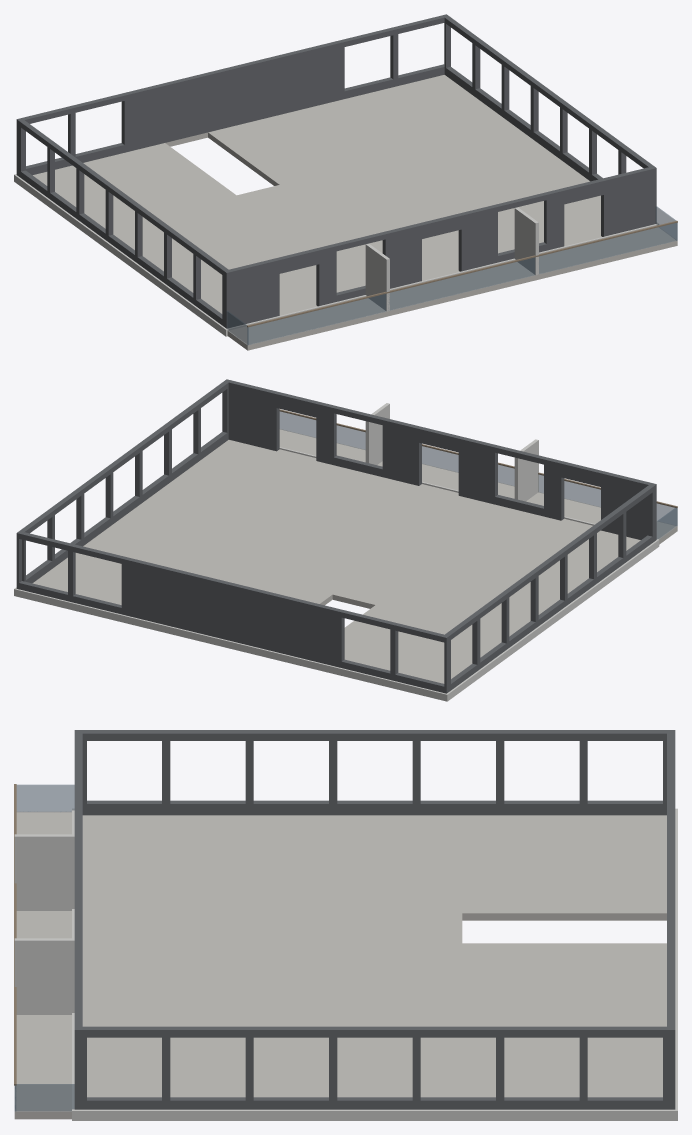
File: condo-floor.skyline-v1.lod1.glb
The picture shows the model from 3 angles, top to bottom: view 1: azimuth 30°, elevation 25°; view 2: azimuth 150°, elevation 25°; view 3: azimuth 270°, elevation 25°; orthographic projection. The views are drawn at different scales.
Parts seen in each view (by area): view 1: condo-floor; view 2: condo-floor; view 3: condo-floor.
Part boxes in pixels (x1,y1,x2,y2): condo-floor: (14,14,677,350); condo-floor: (14,379,677,701); condo-floor: (14,730,677,1120).
Size of the model in its own units: 26.2 by 3.62 by 24.32.
